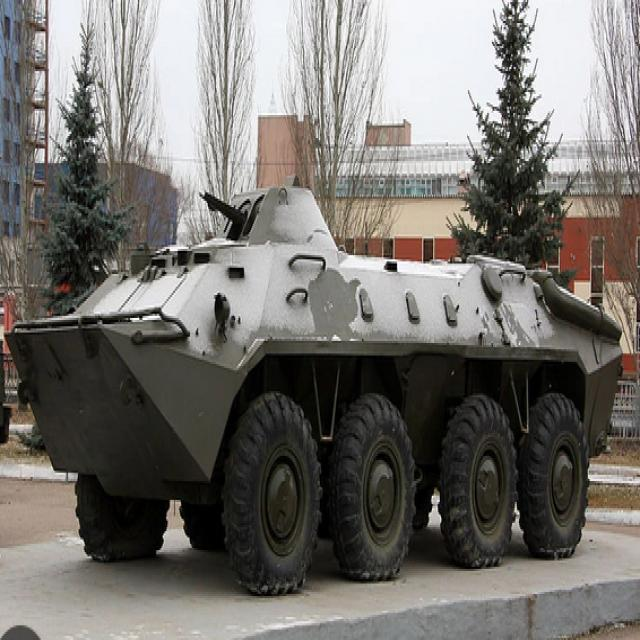MIL_APC: (16, 157, 625, 608)
